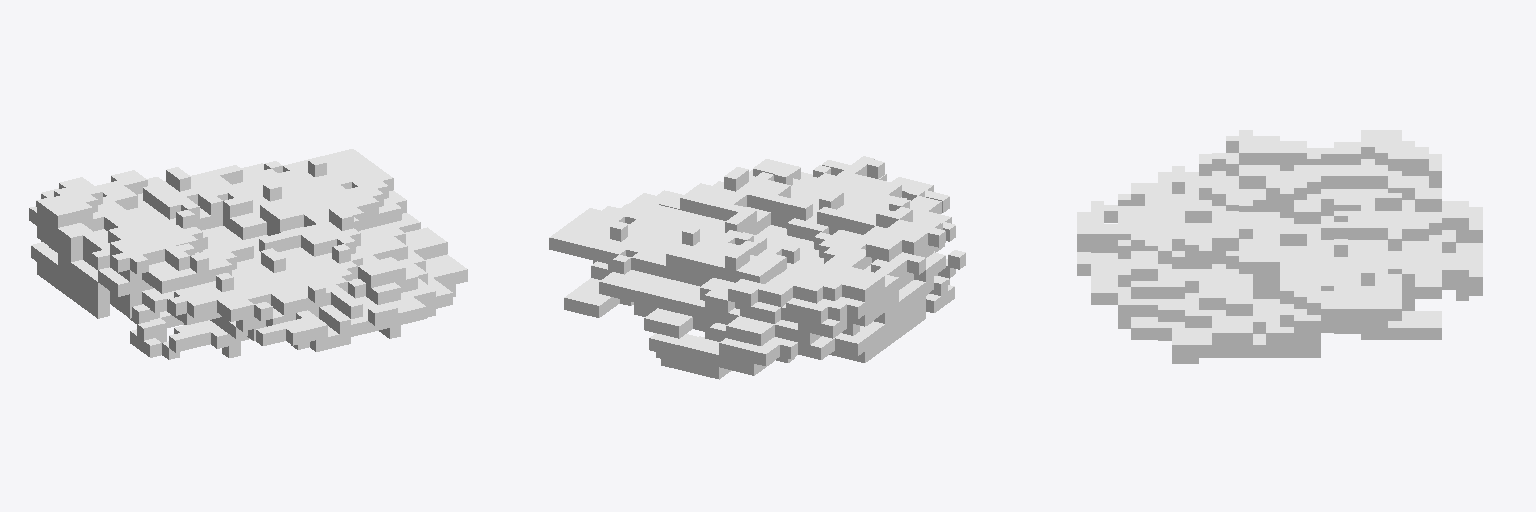
Rendered from start_end-24.obj.
3 renders of one model, left to right at view 1: azimuth 30°, elevation 25°; view 2: azimuth 150°, elevation 25°; view 3: azimuth 270°, elevation 25°, orthographic.
Visible parts, largest first — view 1: object 1; view 2: object 1; view 3: object 1.
Boxes of the visible parts, x1,y1,x2,y2 form: object 1: [29, 149, 467, 359]; object 1: [549, 156, 965, 379]; object 1: [1077, 130, 1482, 363].
Size of the model in its own units: 2.7 by 0.8 by 3.